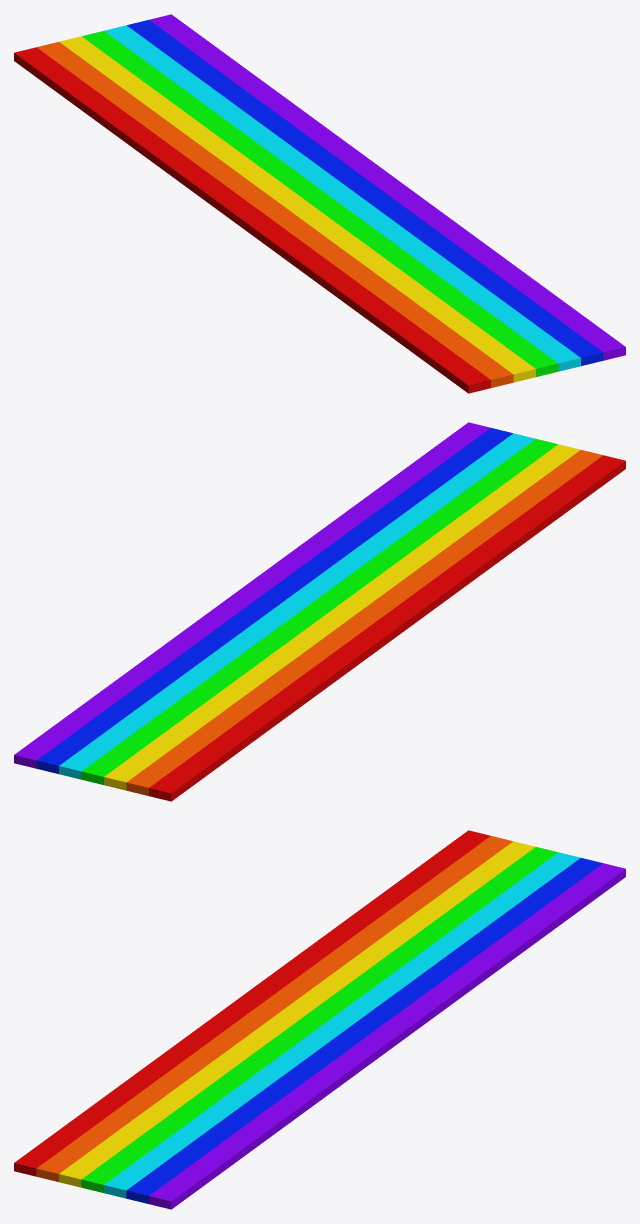
The model's file is GroundTile.fbx.
The picture shows the model from 3 angles, top to bottom: view 1: azimuth 30°, elevation 25°; view 2: azimuth 150°, elevation 25°; view 3: azimuth 330°, elevation 25°; orthographic projection.
Parts seen in each view (by area): view 1: Cube; view 2: Cube; view 3: Cube.
Part boxes in pixels (left/top/right/bottom): Cube: left=14, top=14, right=625, bottom=393; Cube: left=14, top=422, right=625, bottom=801; Cube: left=14, top=830, right=625, bottom=1209.
Bounding box in the file's own units: 2000 × 100 × 10000.
